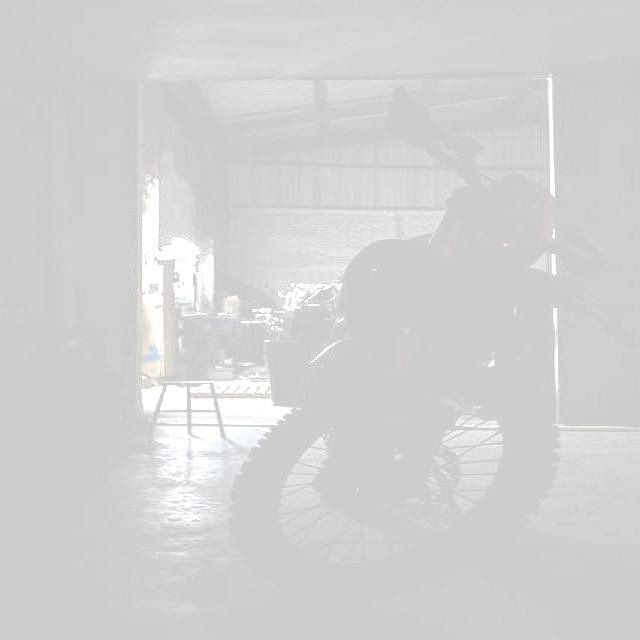Motorbike: (243, 194, 566, 573)
